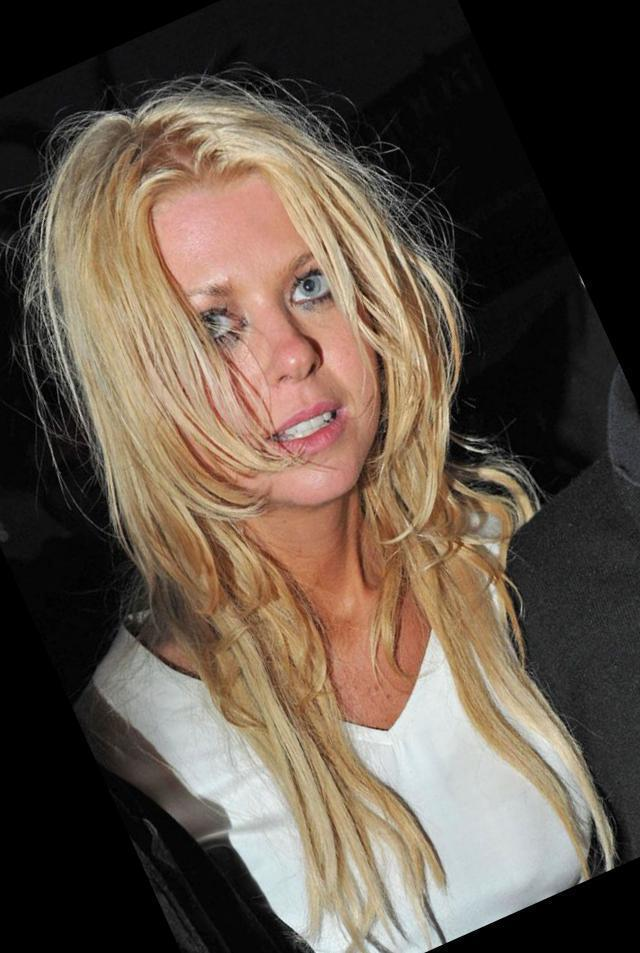Drunk: (143, 184, 377, 498)
